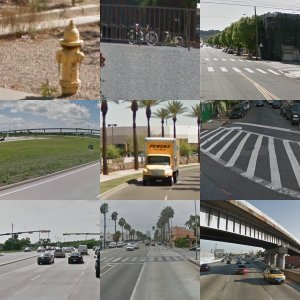汽車: (225, 231, 299, 290), (203, 153, 224, 173), (246, 150, 263, 167), (269, 152, 288, 166), (135, 47, 150, 55)
行人穿越道: (200, 65, 247, 85), (202, 44, 231, 60), (1, 67, 22, 81), (63, 241, 98, 248)
